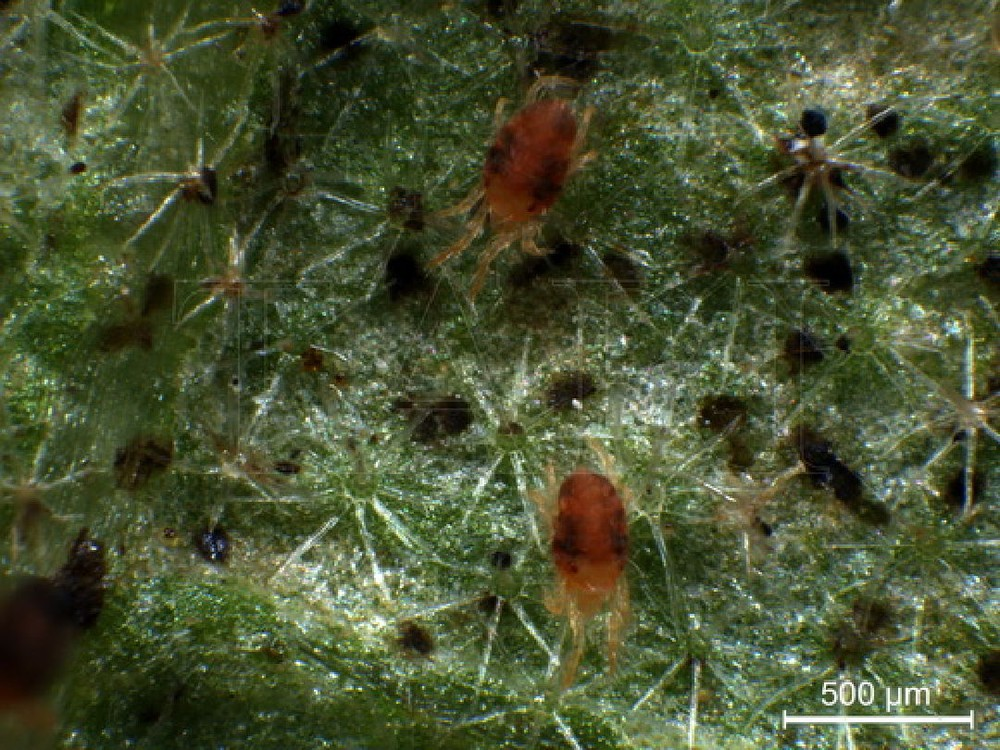Aracnido Rojo: (419, 80, 611, 297), (501, 442, 661, 695)
